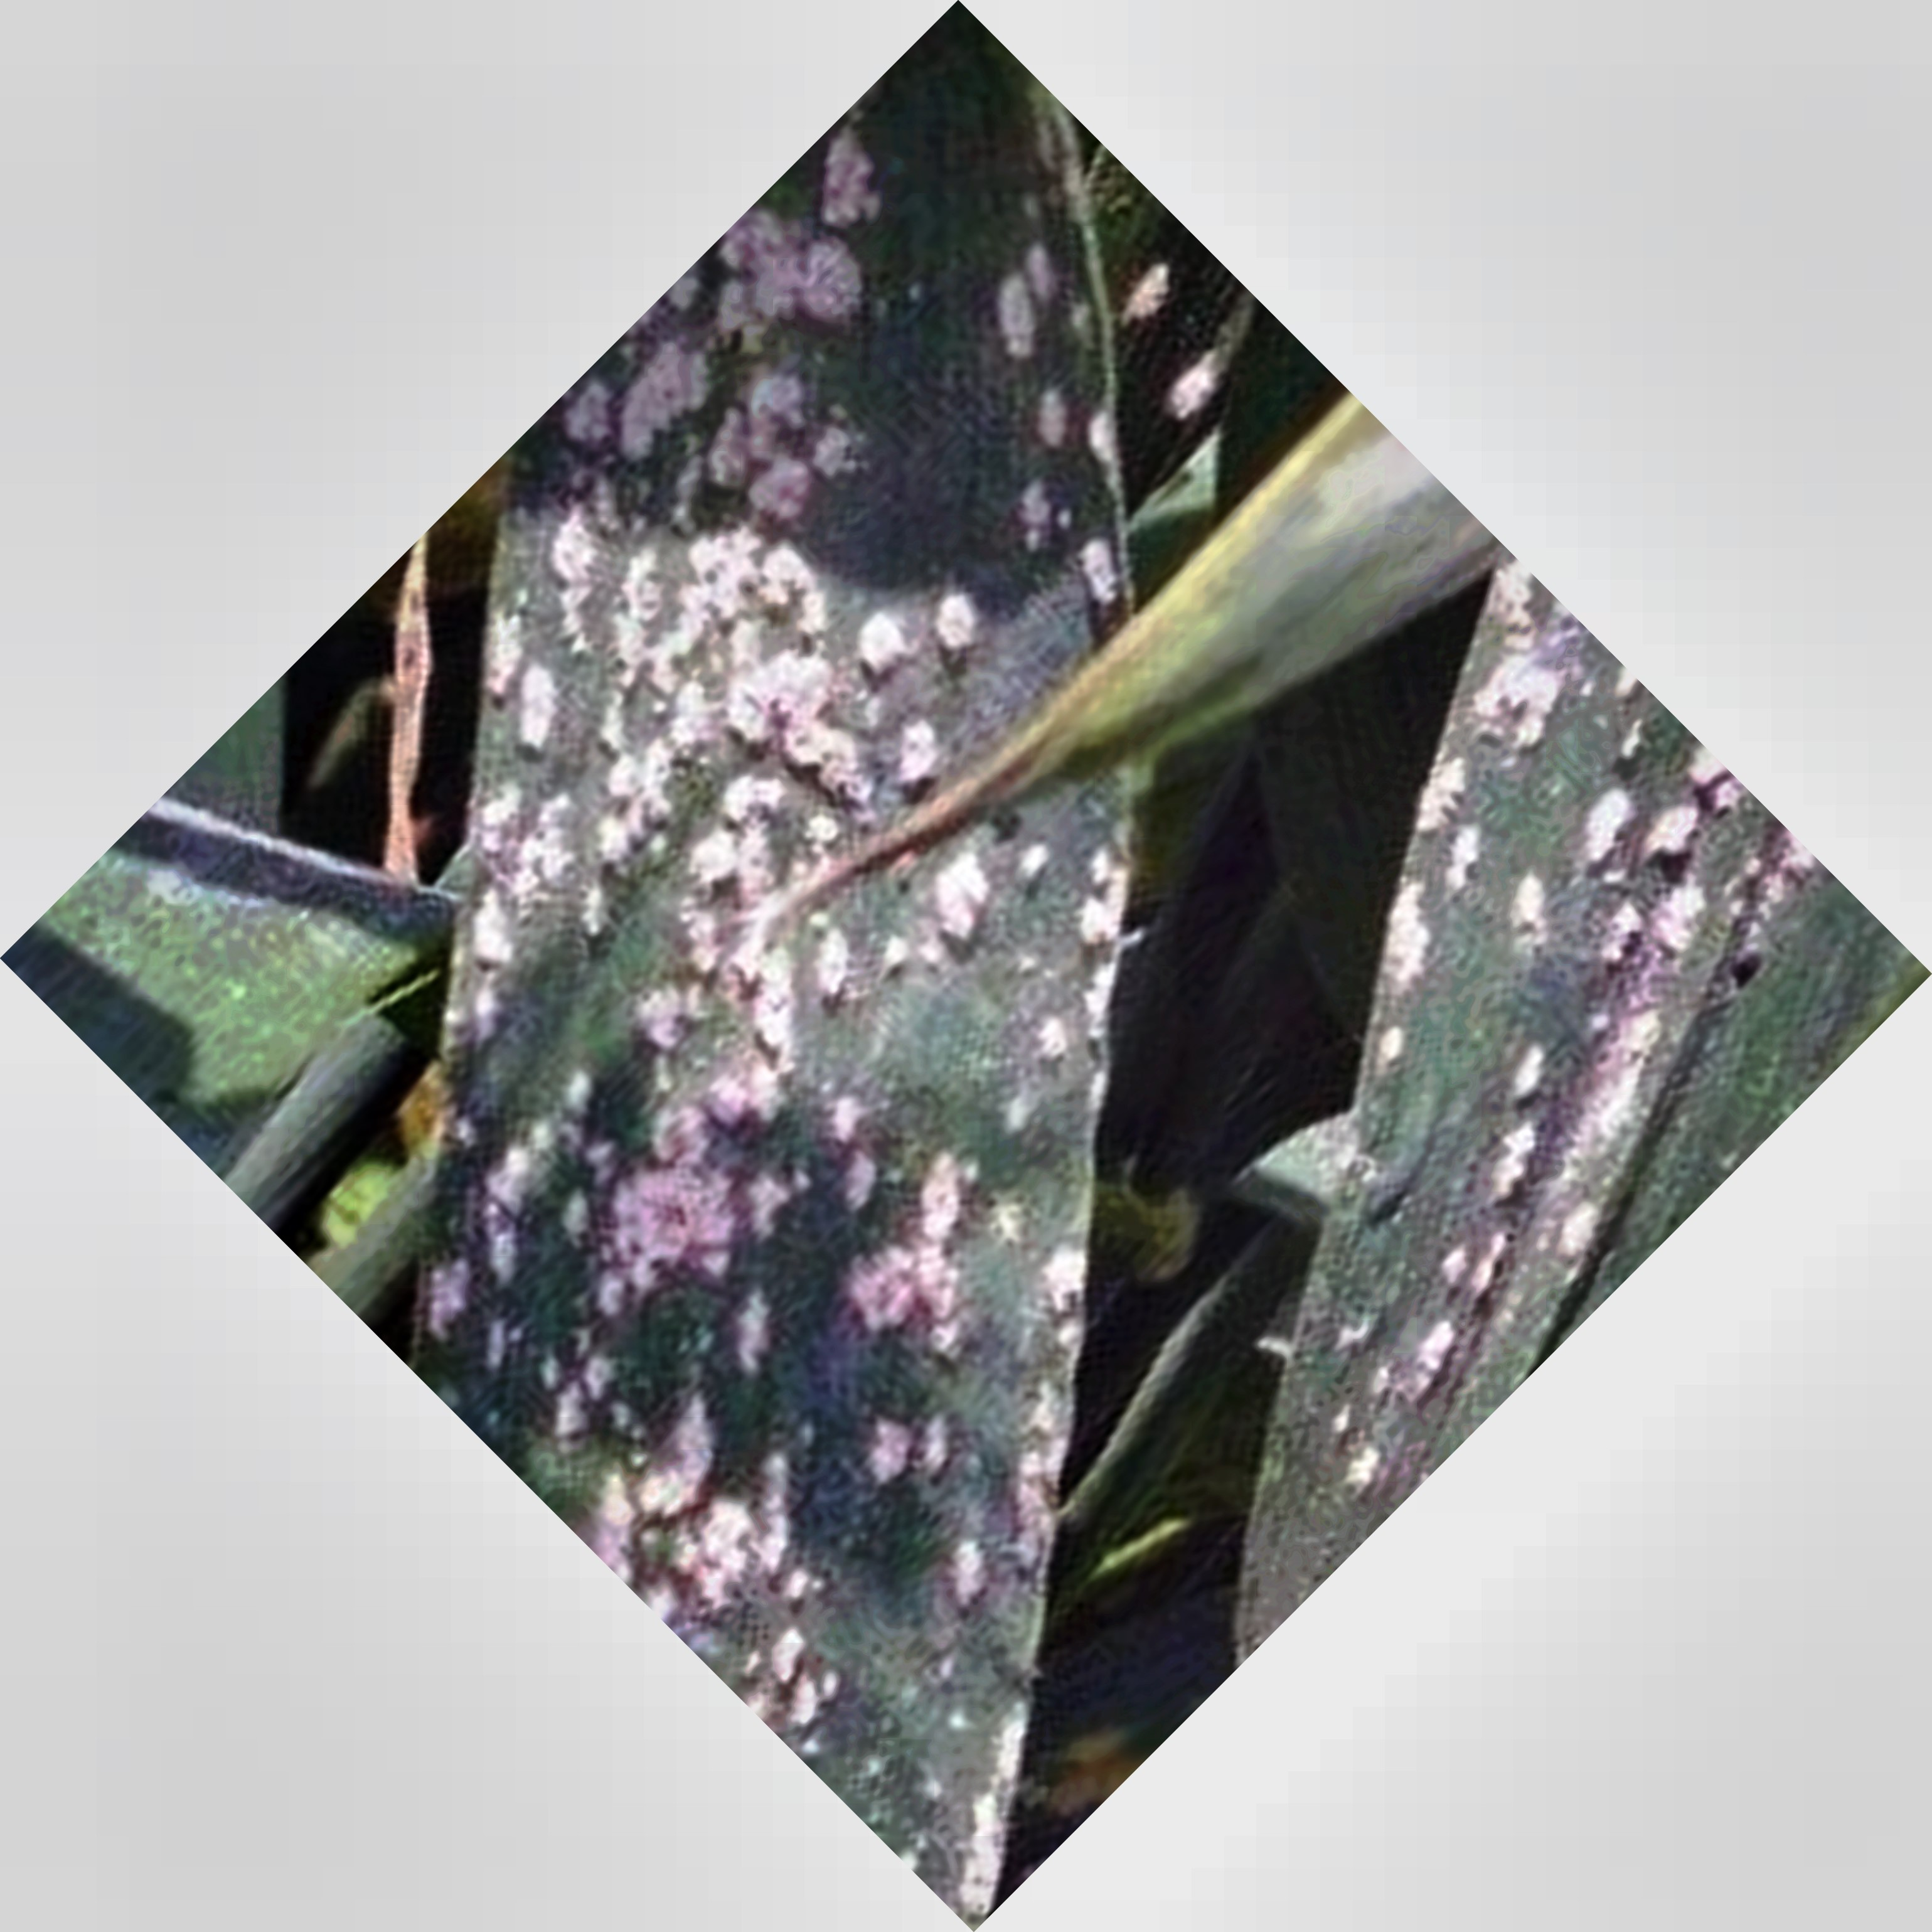Powdery Mildew: (467, 361, 1095, 1727)
